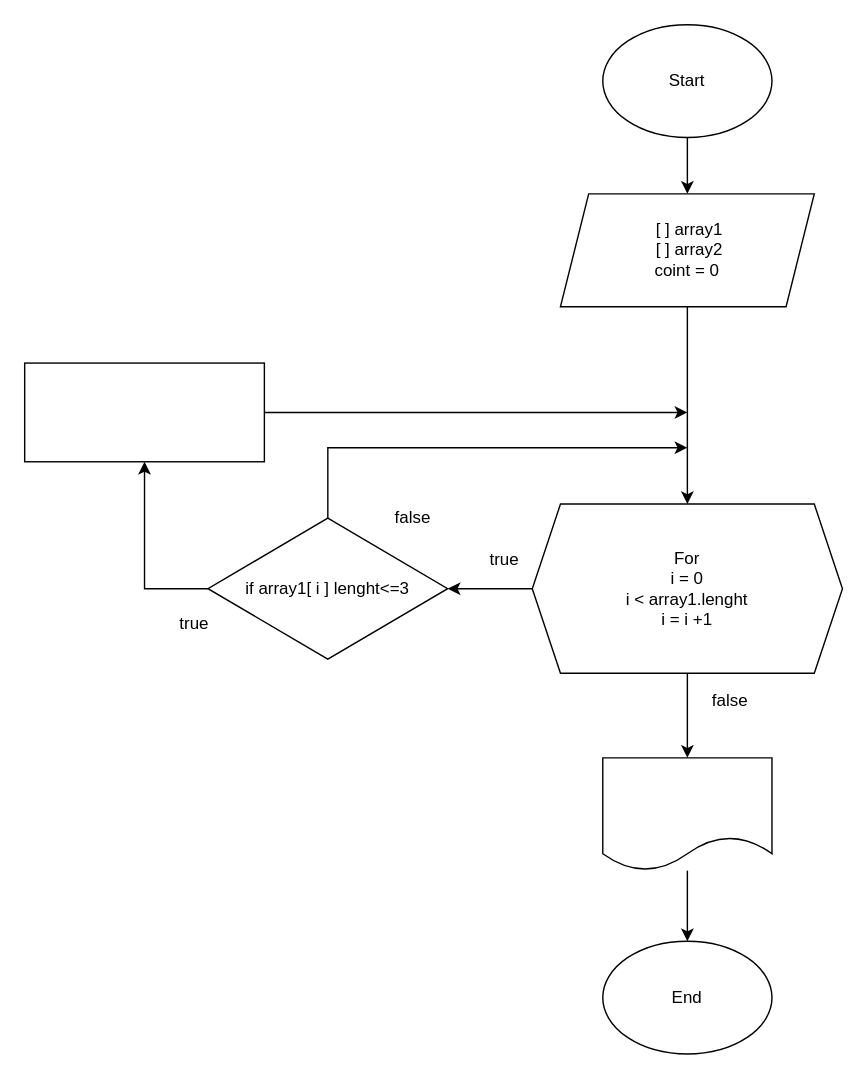
Some shapes in this 867 by 1079 pixel diagram are drawn without their labels. The shapes that lost their labels are listed below. From the top down, each one's box as (x1, y1, x2, y2) in pixels, then its label:
(23, 362, 264, 462): array2 [ count ] = arraw1 [ i ] count = count + 1
(601, 756, 772, 871): print array2 [count]
